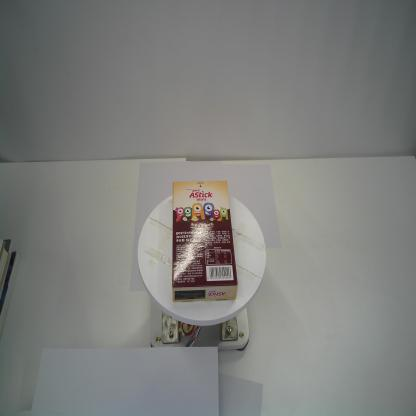Dessert: (170, 178, 240, 306)
